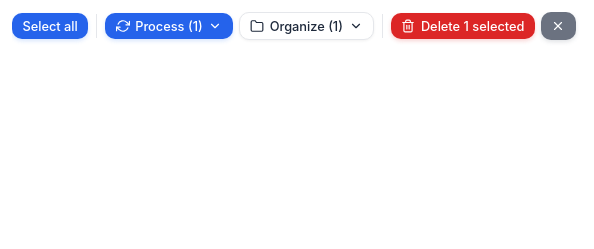
GallerySelectionActions — bulk tag entries › applies tags to the selection and closes the menu
Click the button titled "Add to collection or export transcripts for selected files" at point(306, 26), box [239,12,374,40]
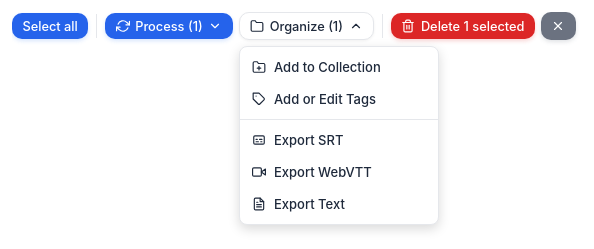
Click the button "Add or Edit Tags" at point(339, 99), box [240,83,438,115]
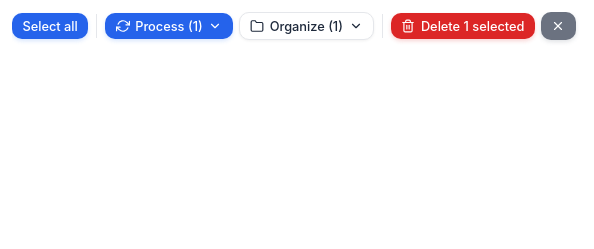
Result: the button "Add or Edit Tags" is gone
